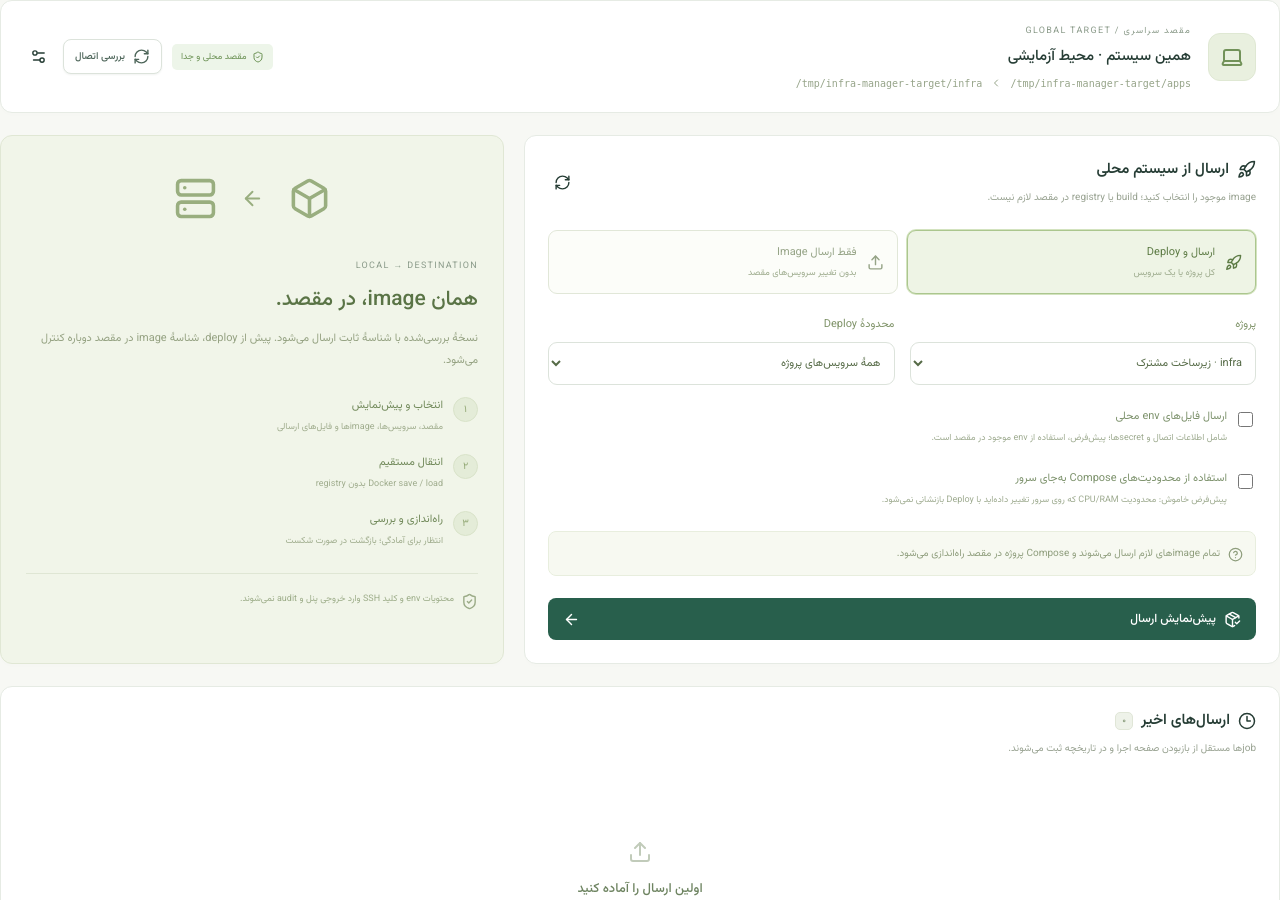
saves a global SSH profile without automatically probing or deploying
Click the button named "تنظیم مقصد سراسری".
click(38, 56)  # box [24,42,53,71]
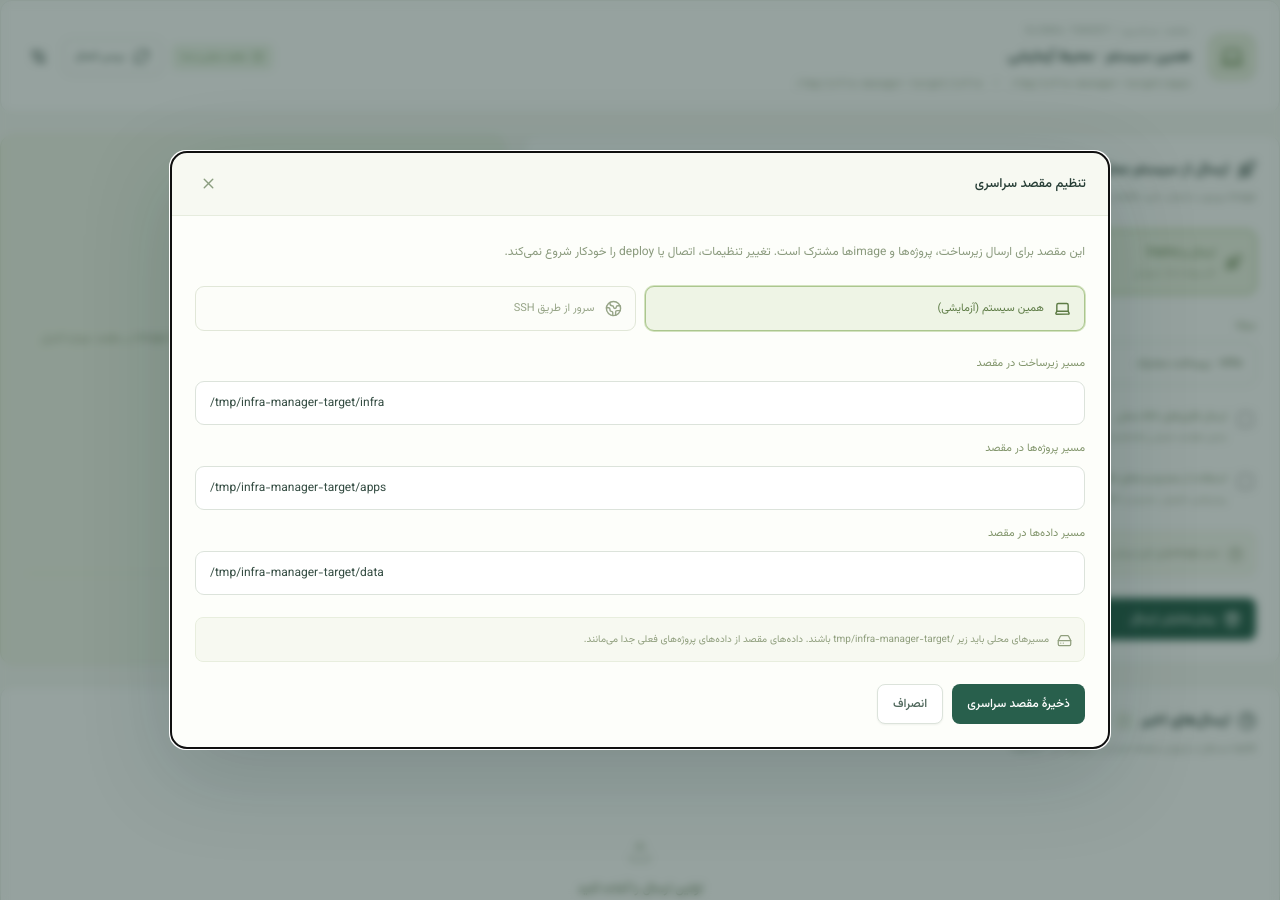
Click the button "سرور از طریق SSH".
click(565, 308)  # box [195,286,636,331]
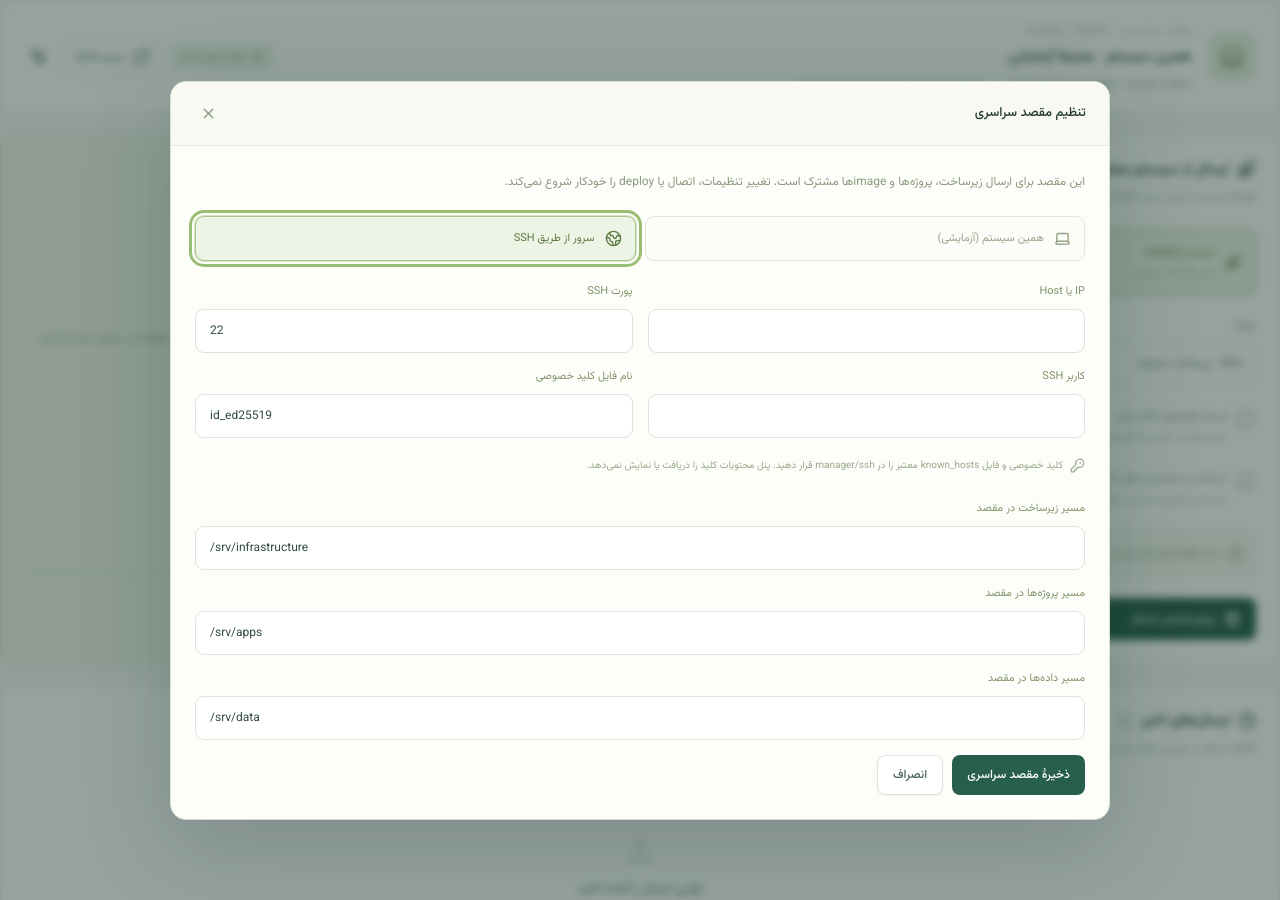
Type "127.0.0.1" into the field named "IP یا Host مقصد".
click(866, 330); type("127.0.0.1")  # box [648,308,1085,352]
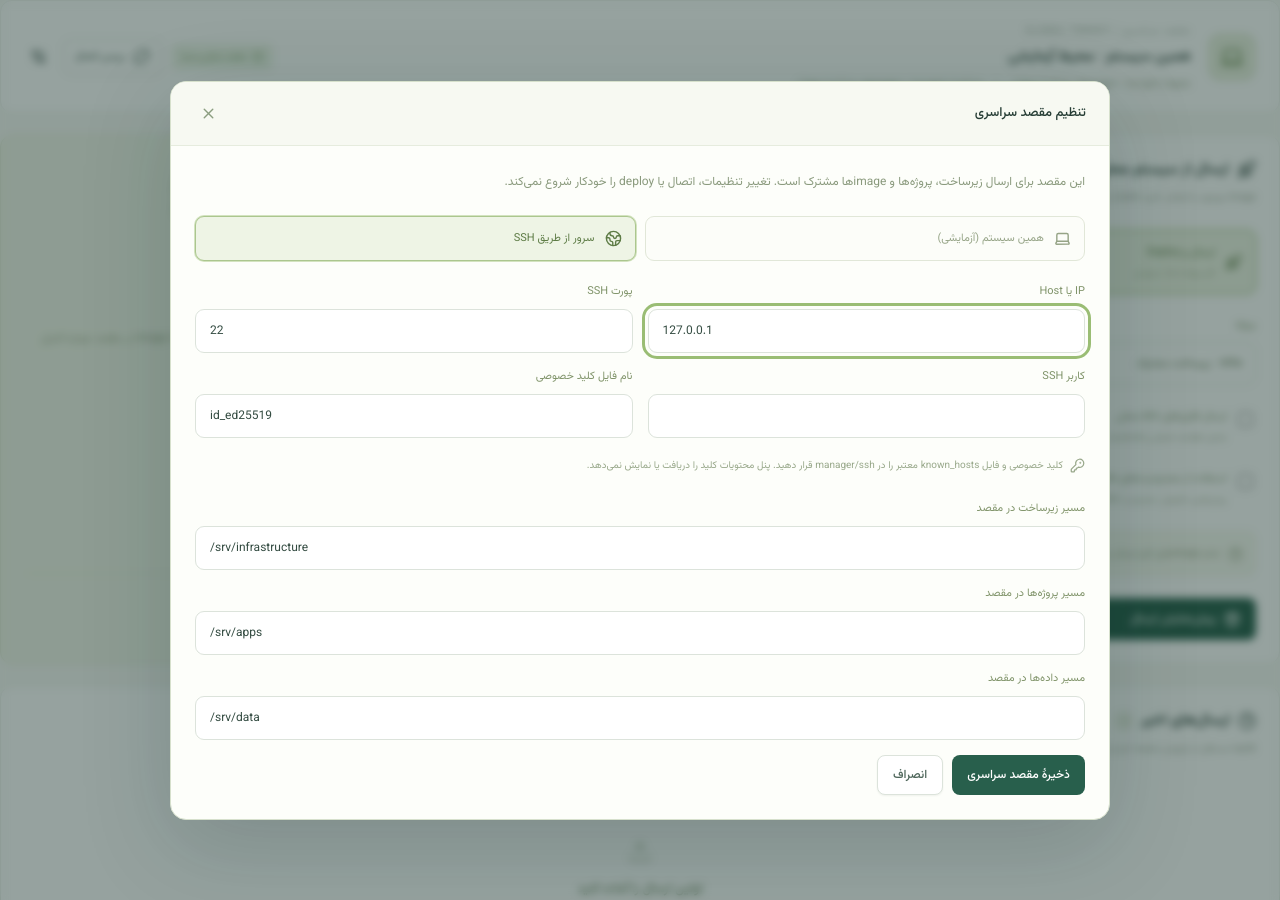
Type "deploy" into the field labelled "کاربر SSH".
click(866, 416); type("deploy")  # box [648,394,1085,438]
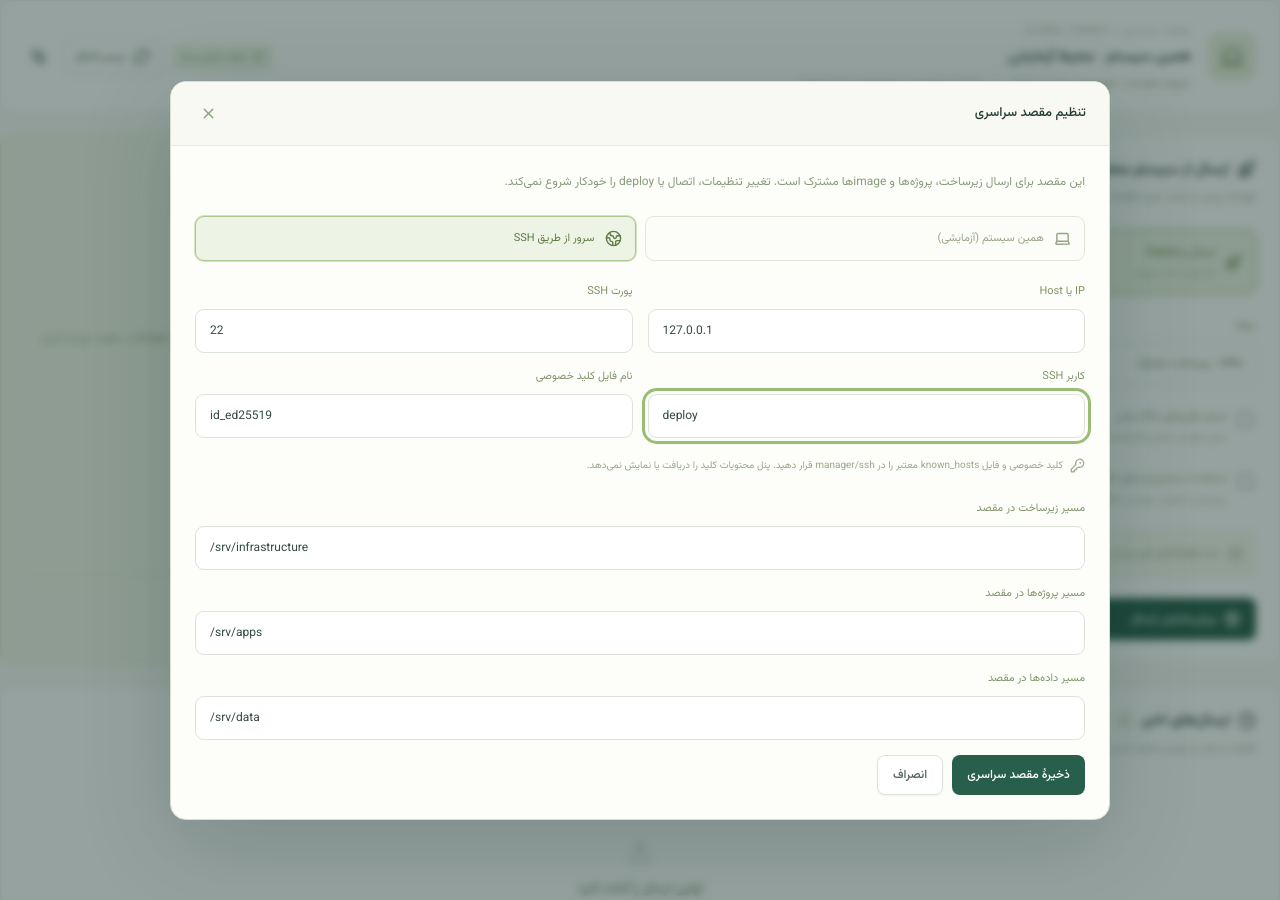
Click the button "ذخیرهٔ مقصد سراسری".
click(1019, 774)  # box [952,754,1085,794]
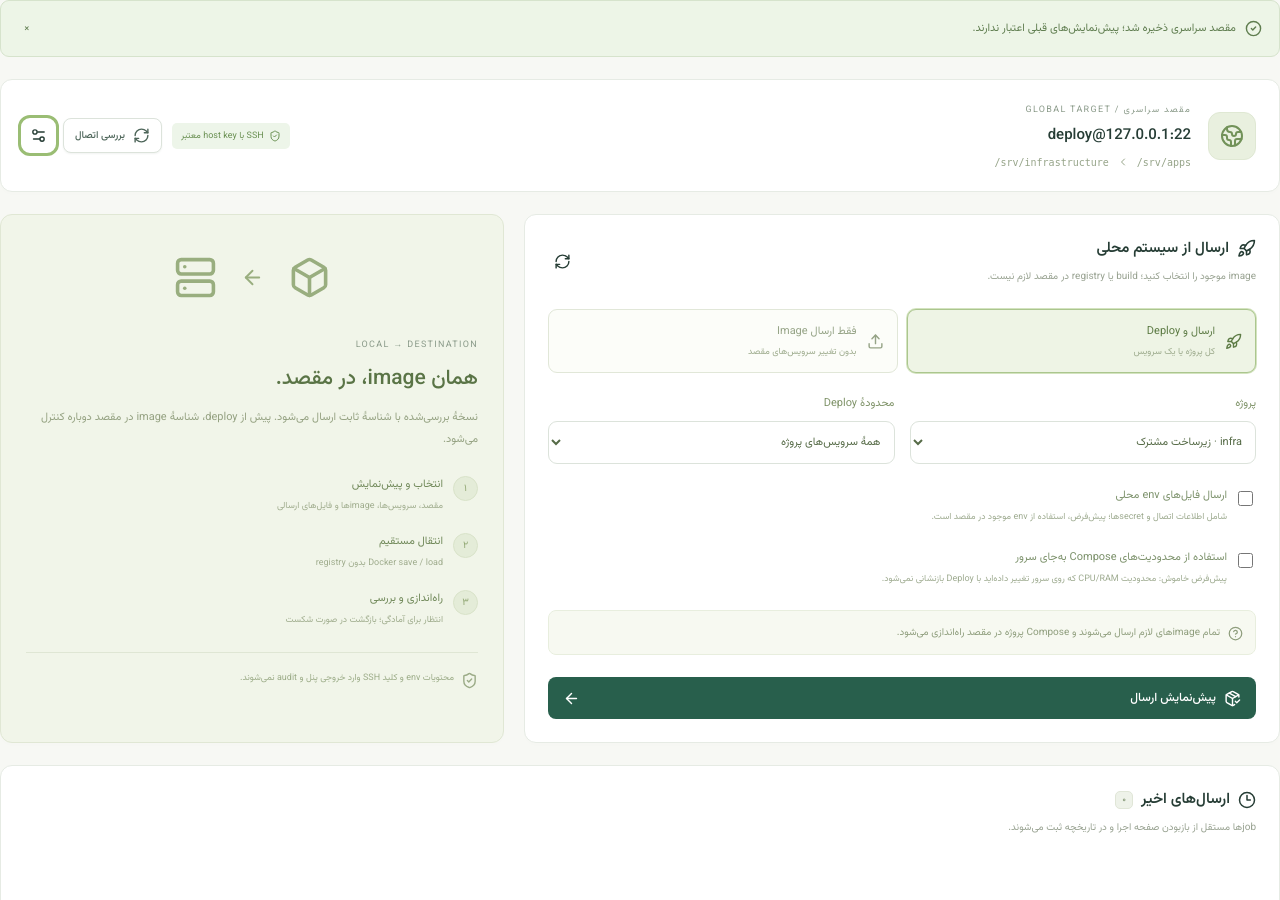
Check: the text "مقصد سراسری ذخیره شد؛ پیش‌نمایش‌های قبلی اعتبار ندارند." is shown, box [972,20,1236,37]
